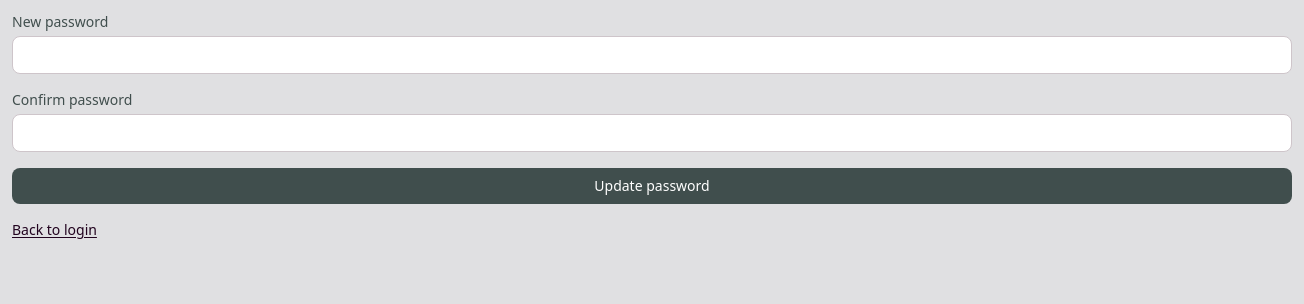
Test: ResetPasswordForm › validates min length and password confirmation before submit
This screenshot has width=1304, height=304.
Type "short" into the password field labelled "New password" at (652, 55), box top-left (12, 36), bottom-right (1292, 74)
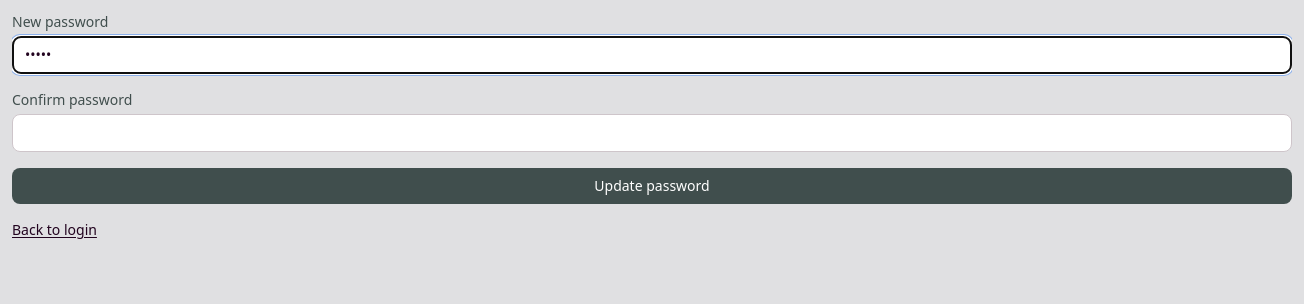
Type "different" into the password field labelled "Confirm password" at (652, 133), box top-left (12, 114), bottom-right (1292, 152)
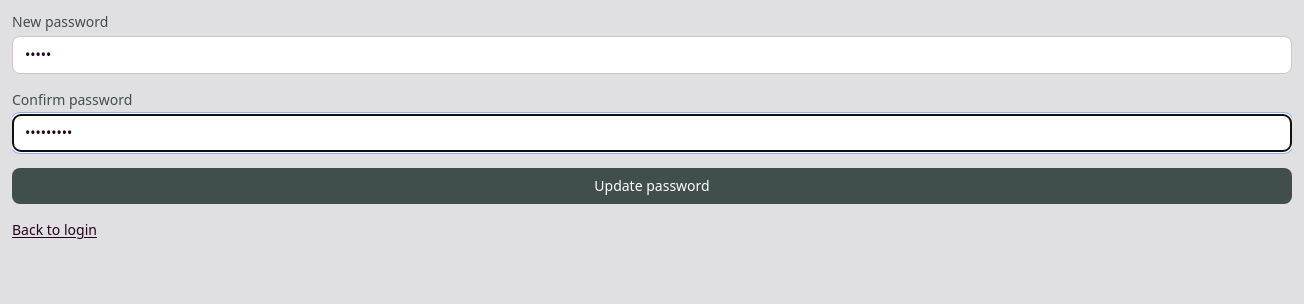
Click the button "Update password" at (652, 186), box top-left (12, 168), bottom-right (1292, 204)
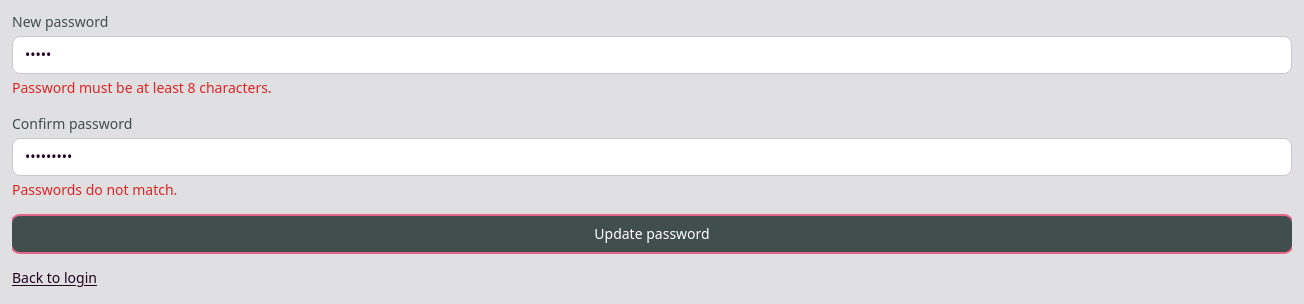
Now the text "Password must be at least 8 characters." is shown, box top-left (12, 78), bottom-right (272, 97)
Now the text "Passwords do not match." is shown, box top-left (12, 180), bottom-right (177, 199)
